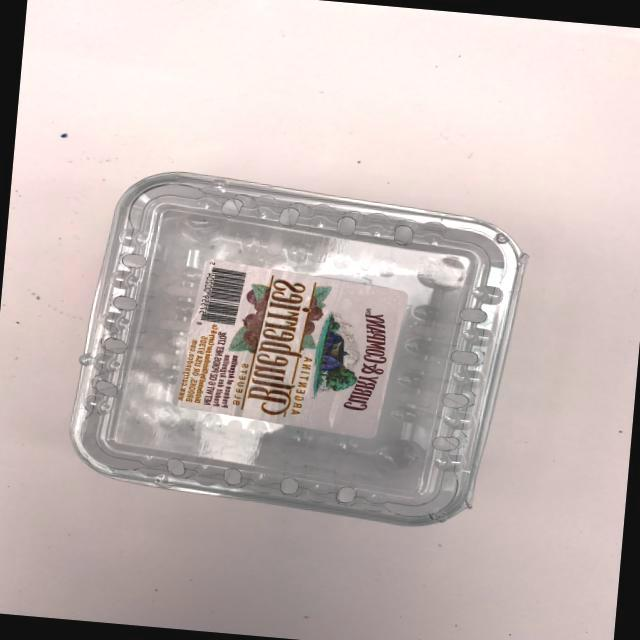plastic: (45, 108, 538, 562)
